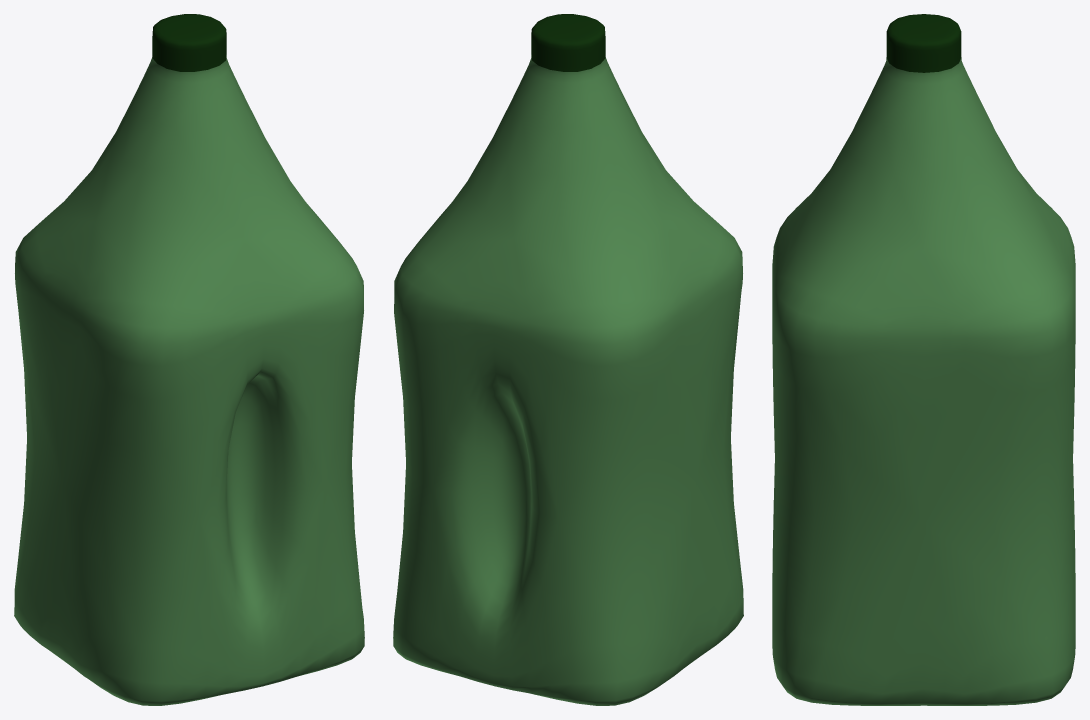
Rendered from olive.fbx.
3 views of the same model, side by side, from view 1: azimuth 30°, elevation 25°; view 2: azimuth 150°, elevation 25°; view 3: azimuth 270°, elevation 25° (orthographic).
Visible parts, largest first — view 1: Plane; view 2: Plane; view 3: Plane.
Part boxes in pixels (x1,y1,x2,y2): Plane: (14, 14, 364, 705); Plane: (393, 14, 743, 705); Plane: (772, 14, 1075, 705).
Size of the model in its own units: 200 by 450 by 200.
